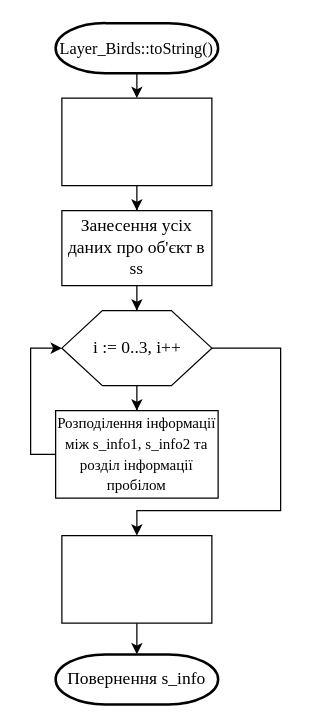
Image size: 313x726. Some labels were removed from this diagram. Each missing label, with the box of its shape:
std::string s_info std::string s_info1 std::string s_info2 std::stringstream ss: (61, 97, 212, 186)
Перенесення усієї інйформації в s_info та очищення потоку ss: (61, 534, 212, 623)
